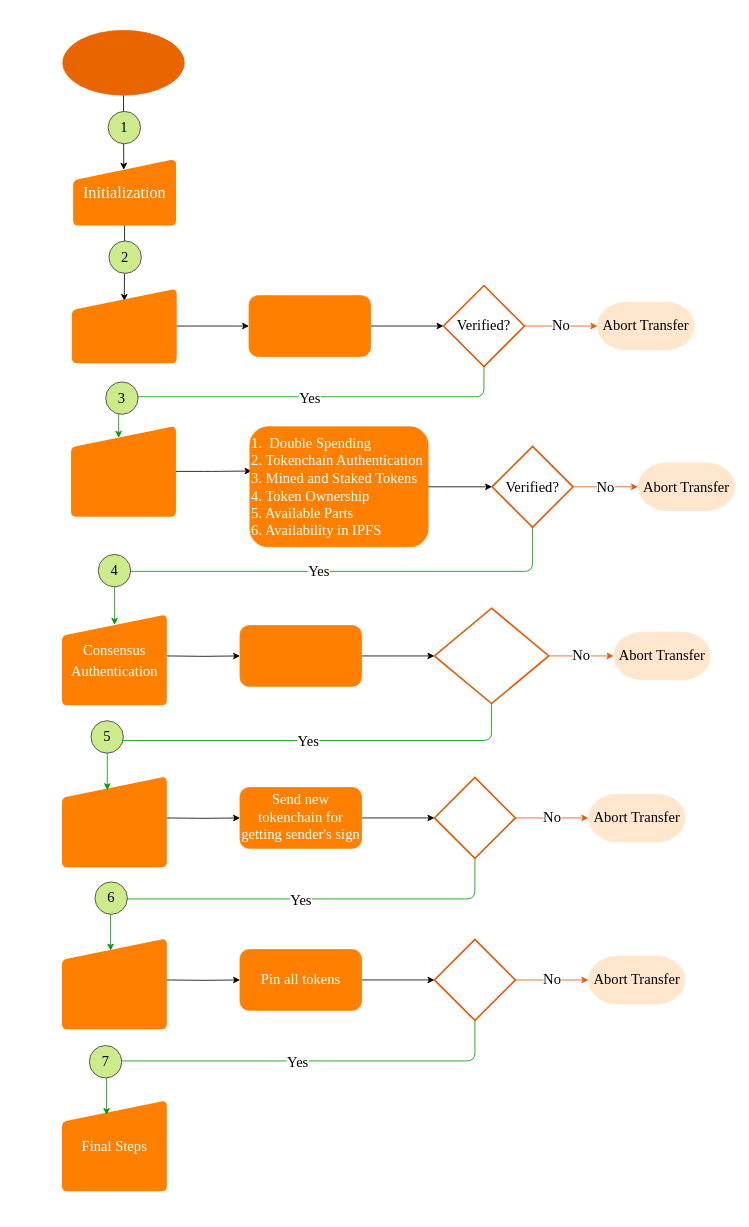
Some shapes in this 749 by 1227 pixel diagram are drawn without their labels. Each missing label, with the box of its shape:
Authenicate 15 signatures of the quorum nodes: (239, 625, 362, 686)
Authenticated?: (433, 607, 549, 704)
Pinned?: (433, 938, 516, 1021)
Pinning: (62, 938, 166, 1029)
Receive(): (62, 30, 184, 95)
Sender Identity Authentication: (71, 288, 176, 363)
Signed?: (433, 776, 516, 859)
Tokenchain Signing: (62, 776, 166, 867)
Tokens and Chain Authentication: (71, 426, 176, 516)
Verify sender's Identity from the network: (248, 295, 371, 356)
